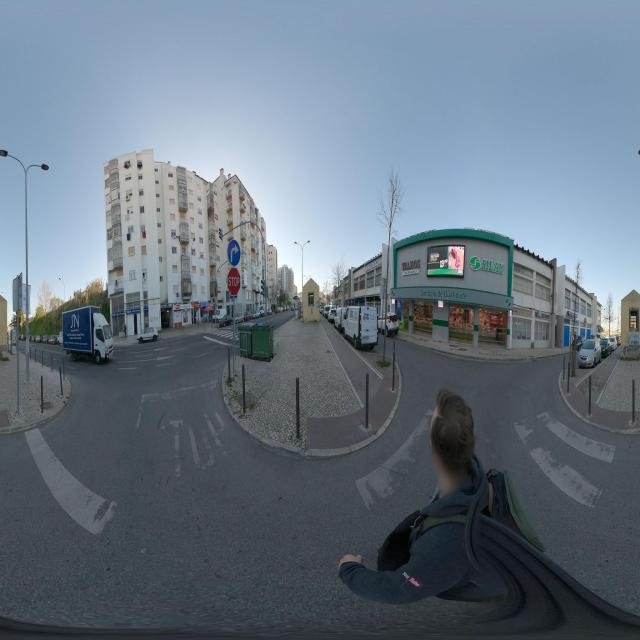car: (61, 306, 114, 364), (345, 302, 378, 350), (578, 338, 600, 369), (382, 312, 399, 338), (337, 306, 348, 334), (599, 337, 610, 358), (244, 301, 255, 321), (335, 306, 342, 330), (328, 306, 337, 324), (608, 336, 616, 352), (295, 301, 302, 319), (258, 304, 265, 318), (324, 304, 329, 318)
